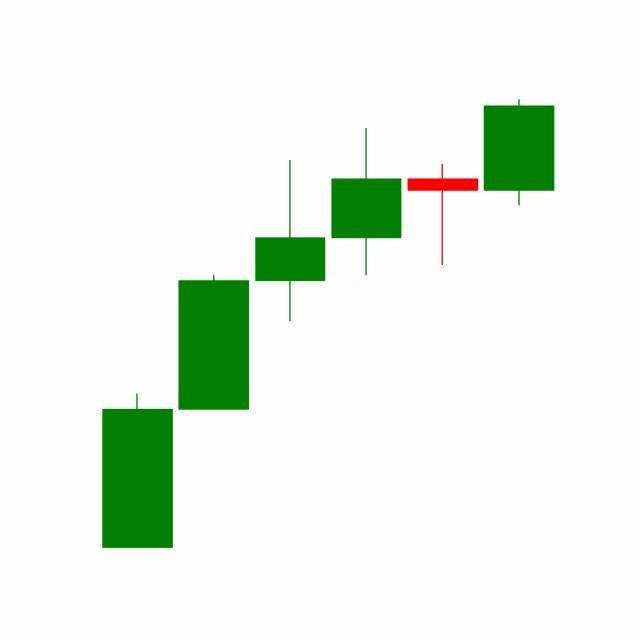Spinning Top: (404, 163, 482, 268)
